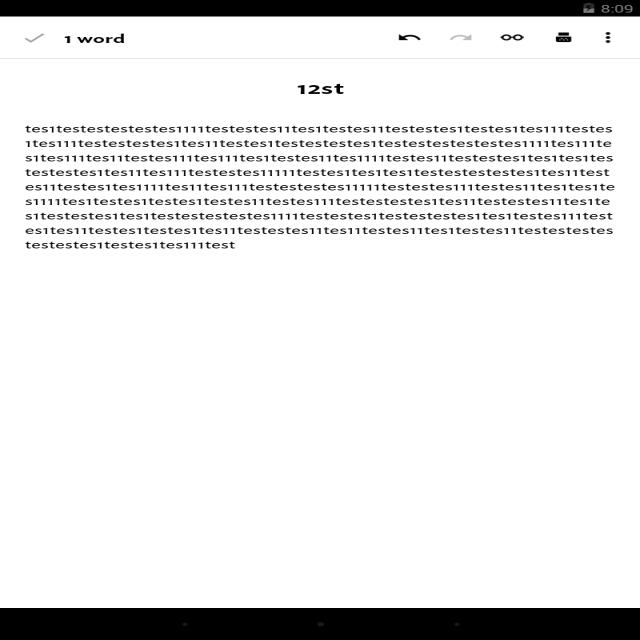ImageButton: (492, 28, 534, 48), (393, 27, 432, 46), (547, 27, 584, 47), (17, 27, 54, 45), (443, 28, 480, 46), (595, 27, 622, 45)
TextView: (14, 120, 624, 240), (294, 76, 348, 96)
